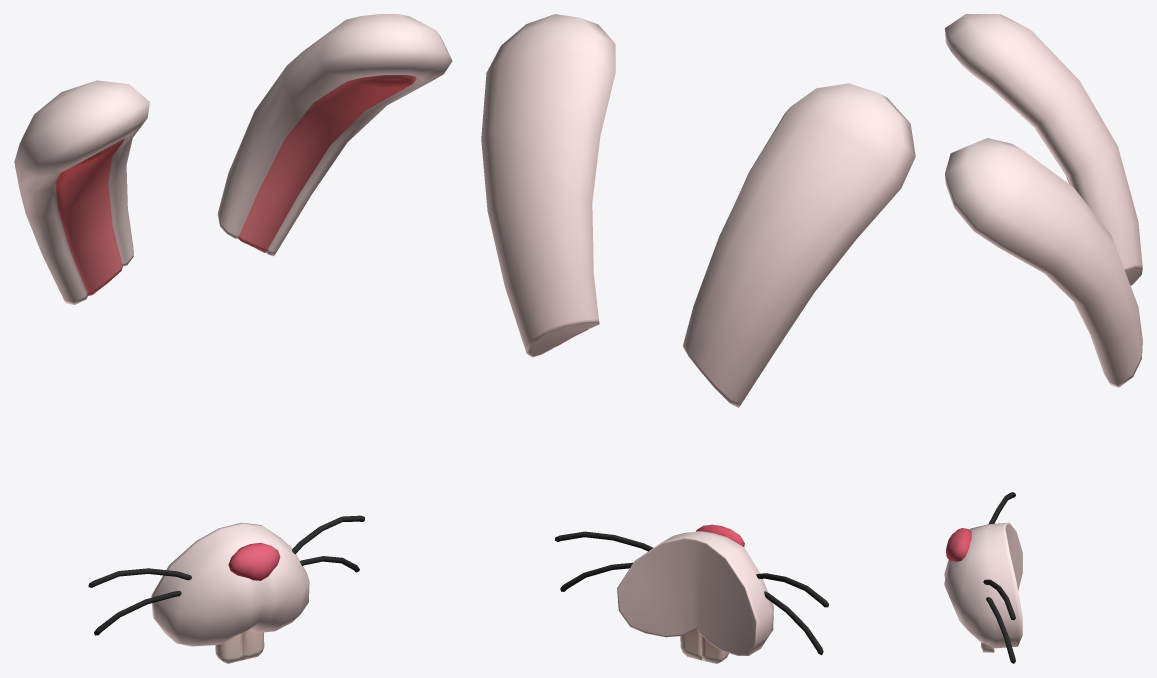
Rendered from AnimalFace_Rabbit.obj.
The picture shows the model from 3 angles, left to right: view 1: azimuth 30°, elevation 25°; view 2: azimuth 150°, elevation 25°; view 3: azimuth 270°, elevation 25°; orthographic projection. The views are drawn at different scales.
Visible parts, largest first — view 1: AnimalFace_Rabbit; view 2: AnimalFace_Rabbit; view 3: AnimalFace_Rabbit.
Boxes of the visible parts, x1=… form: AnimalFace_Rabbit: x1=14, y1=14, x2=452, y2=663; AnimalFace_Rabbit: x1=481, y1=14, x2=915, y2=663; AnimalFace_Rabbit: x1=944, y1=14, x2=1142, y2=663.
Size of the model in its own units: 97.55 by 136 by 43.56.
